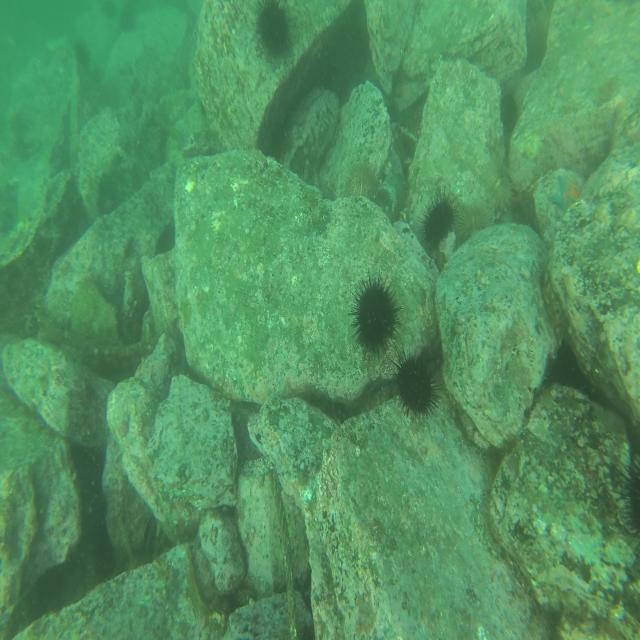echinus: (354, 279, 397, 351), (395, 355, 434, 417), (257, 1, 290, 54), (424, 195, 456, 248)
starfish: (552, 168, 582, 216)
